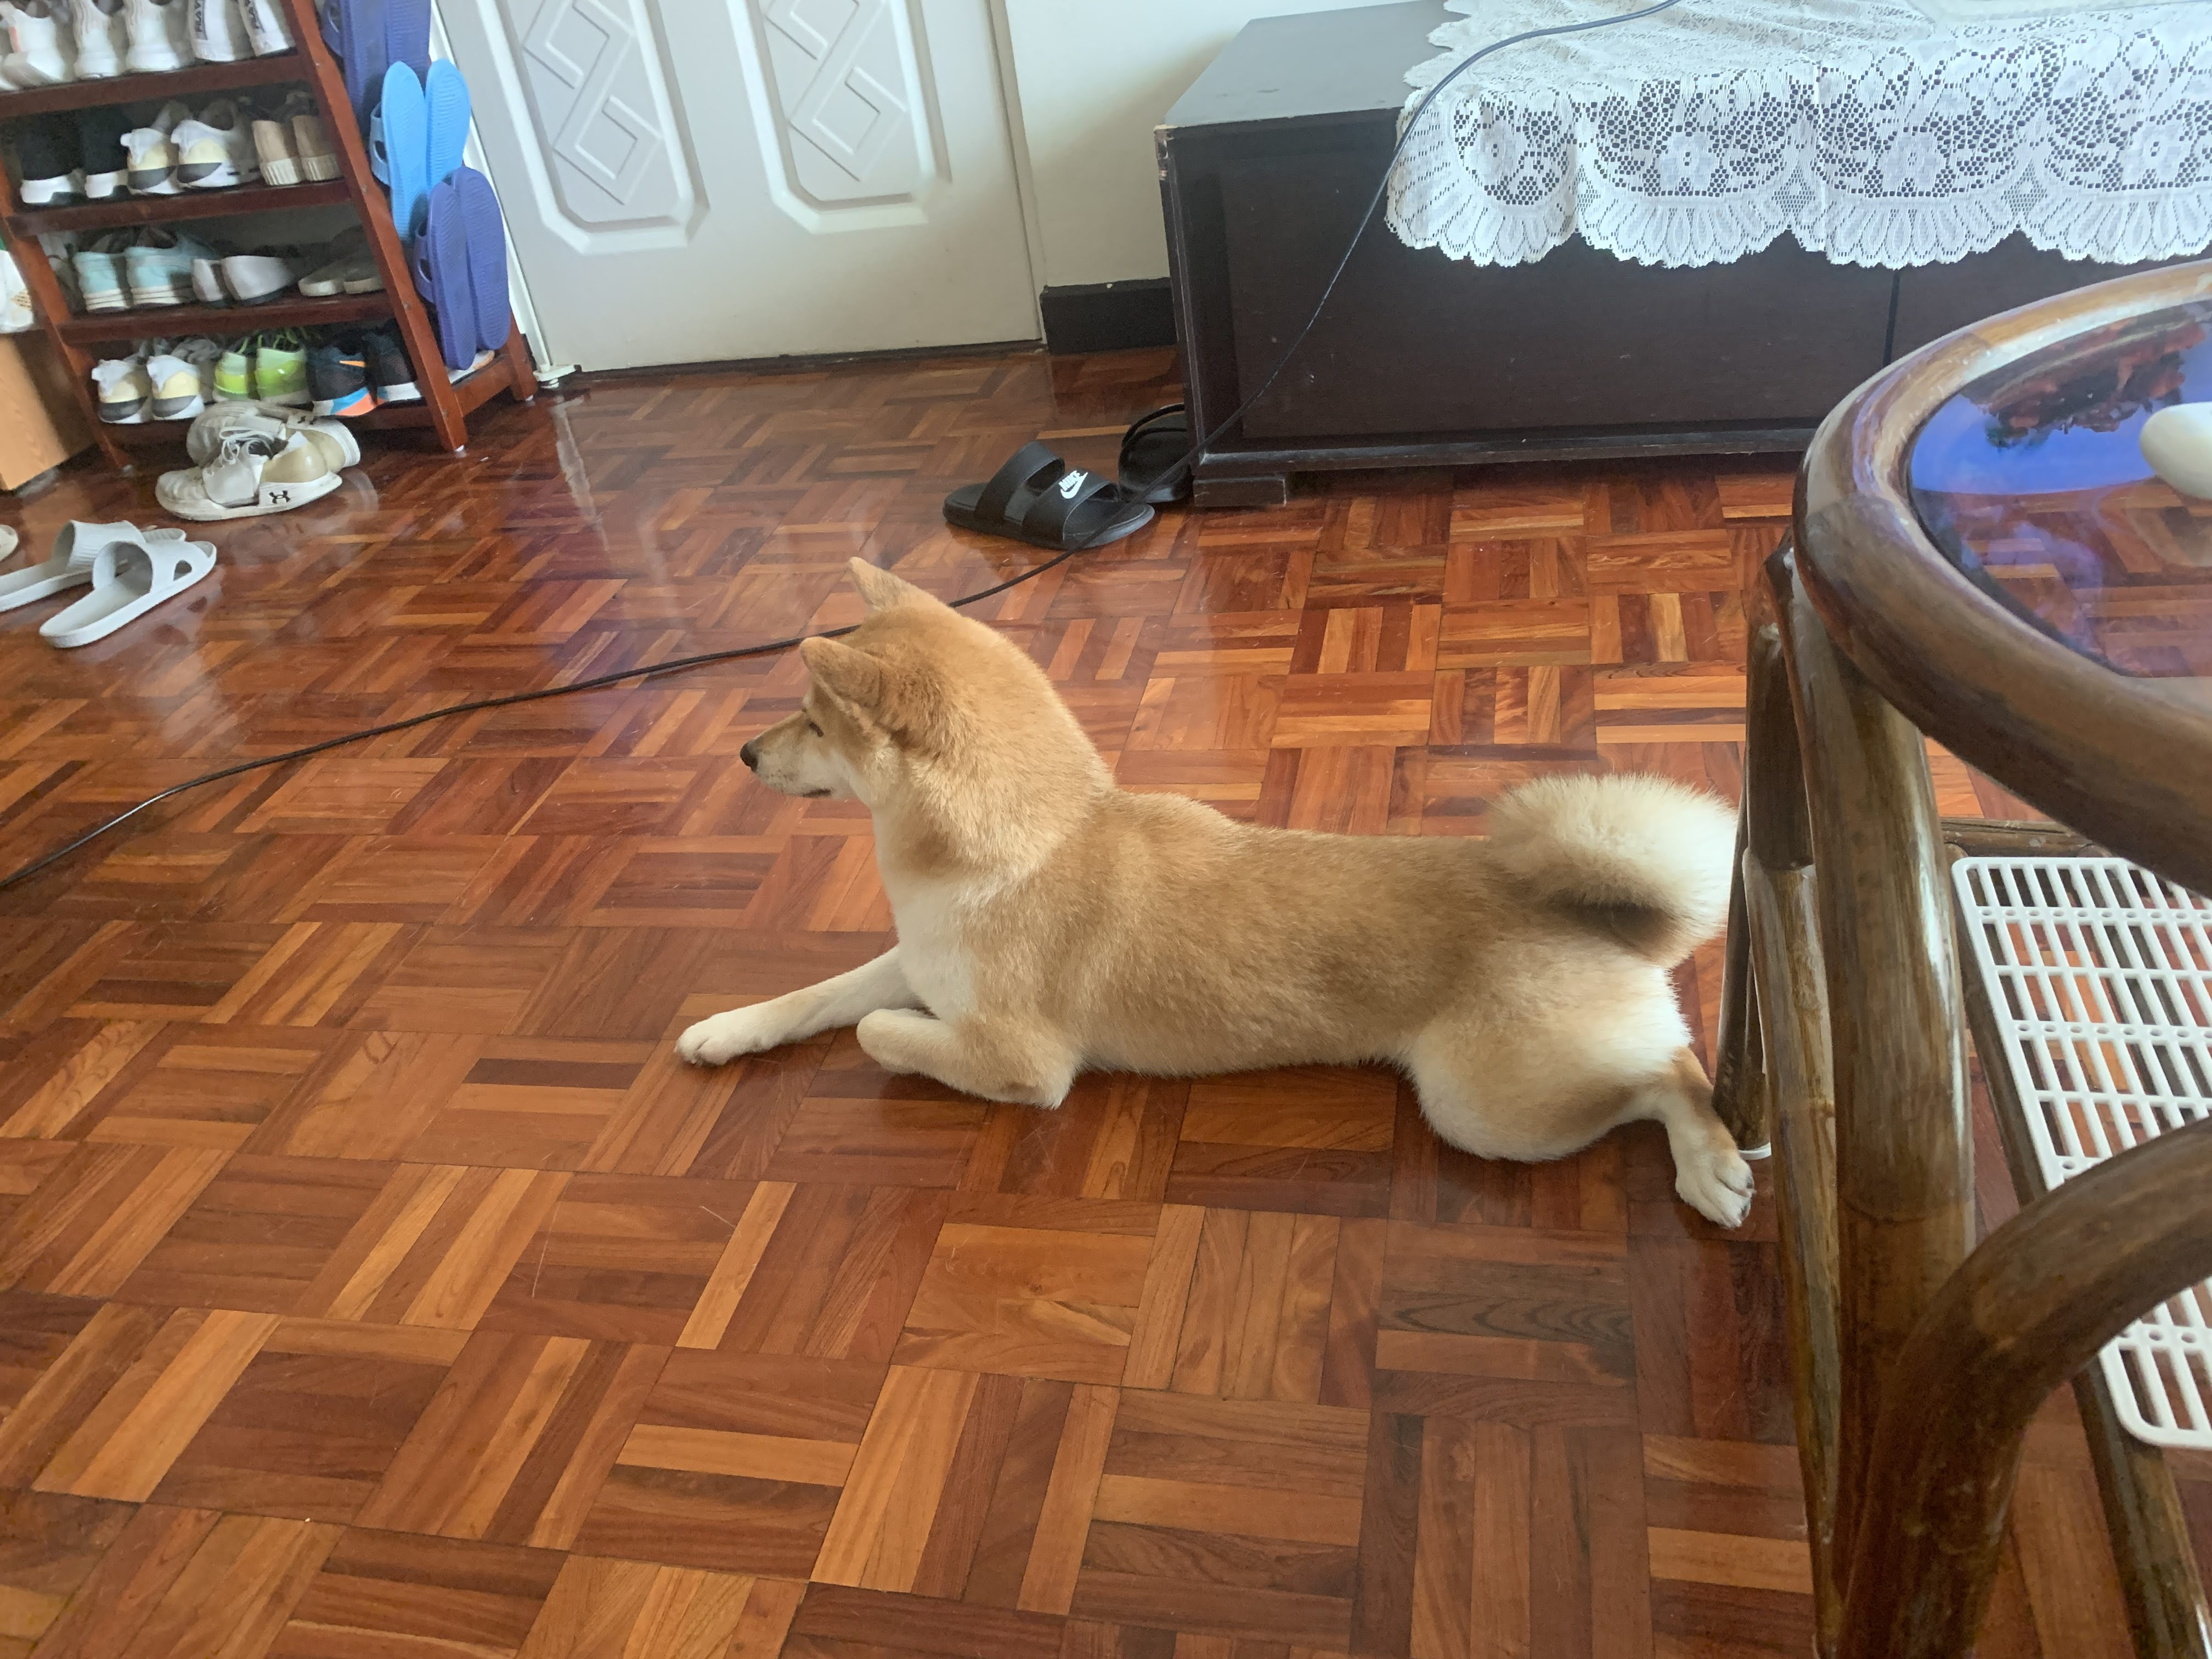Get down: (651, 558, 1771, 1239)
